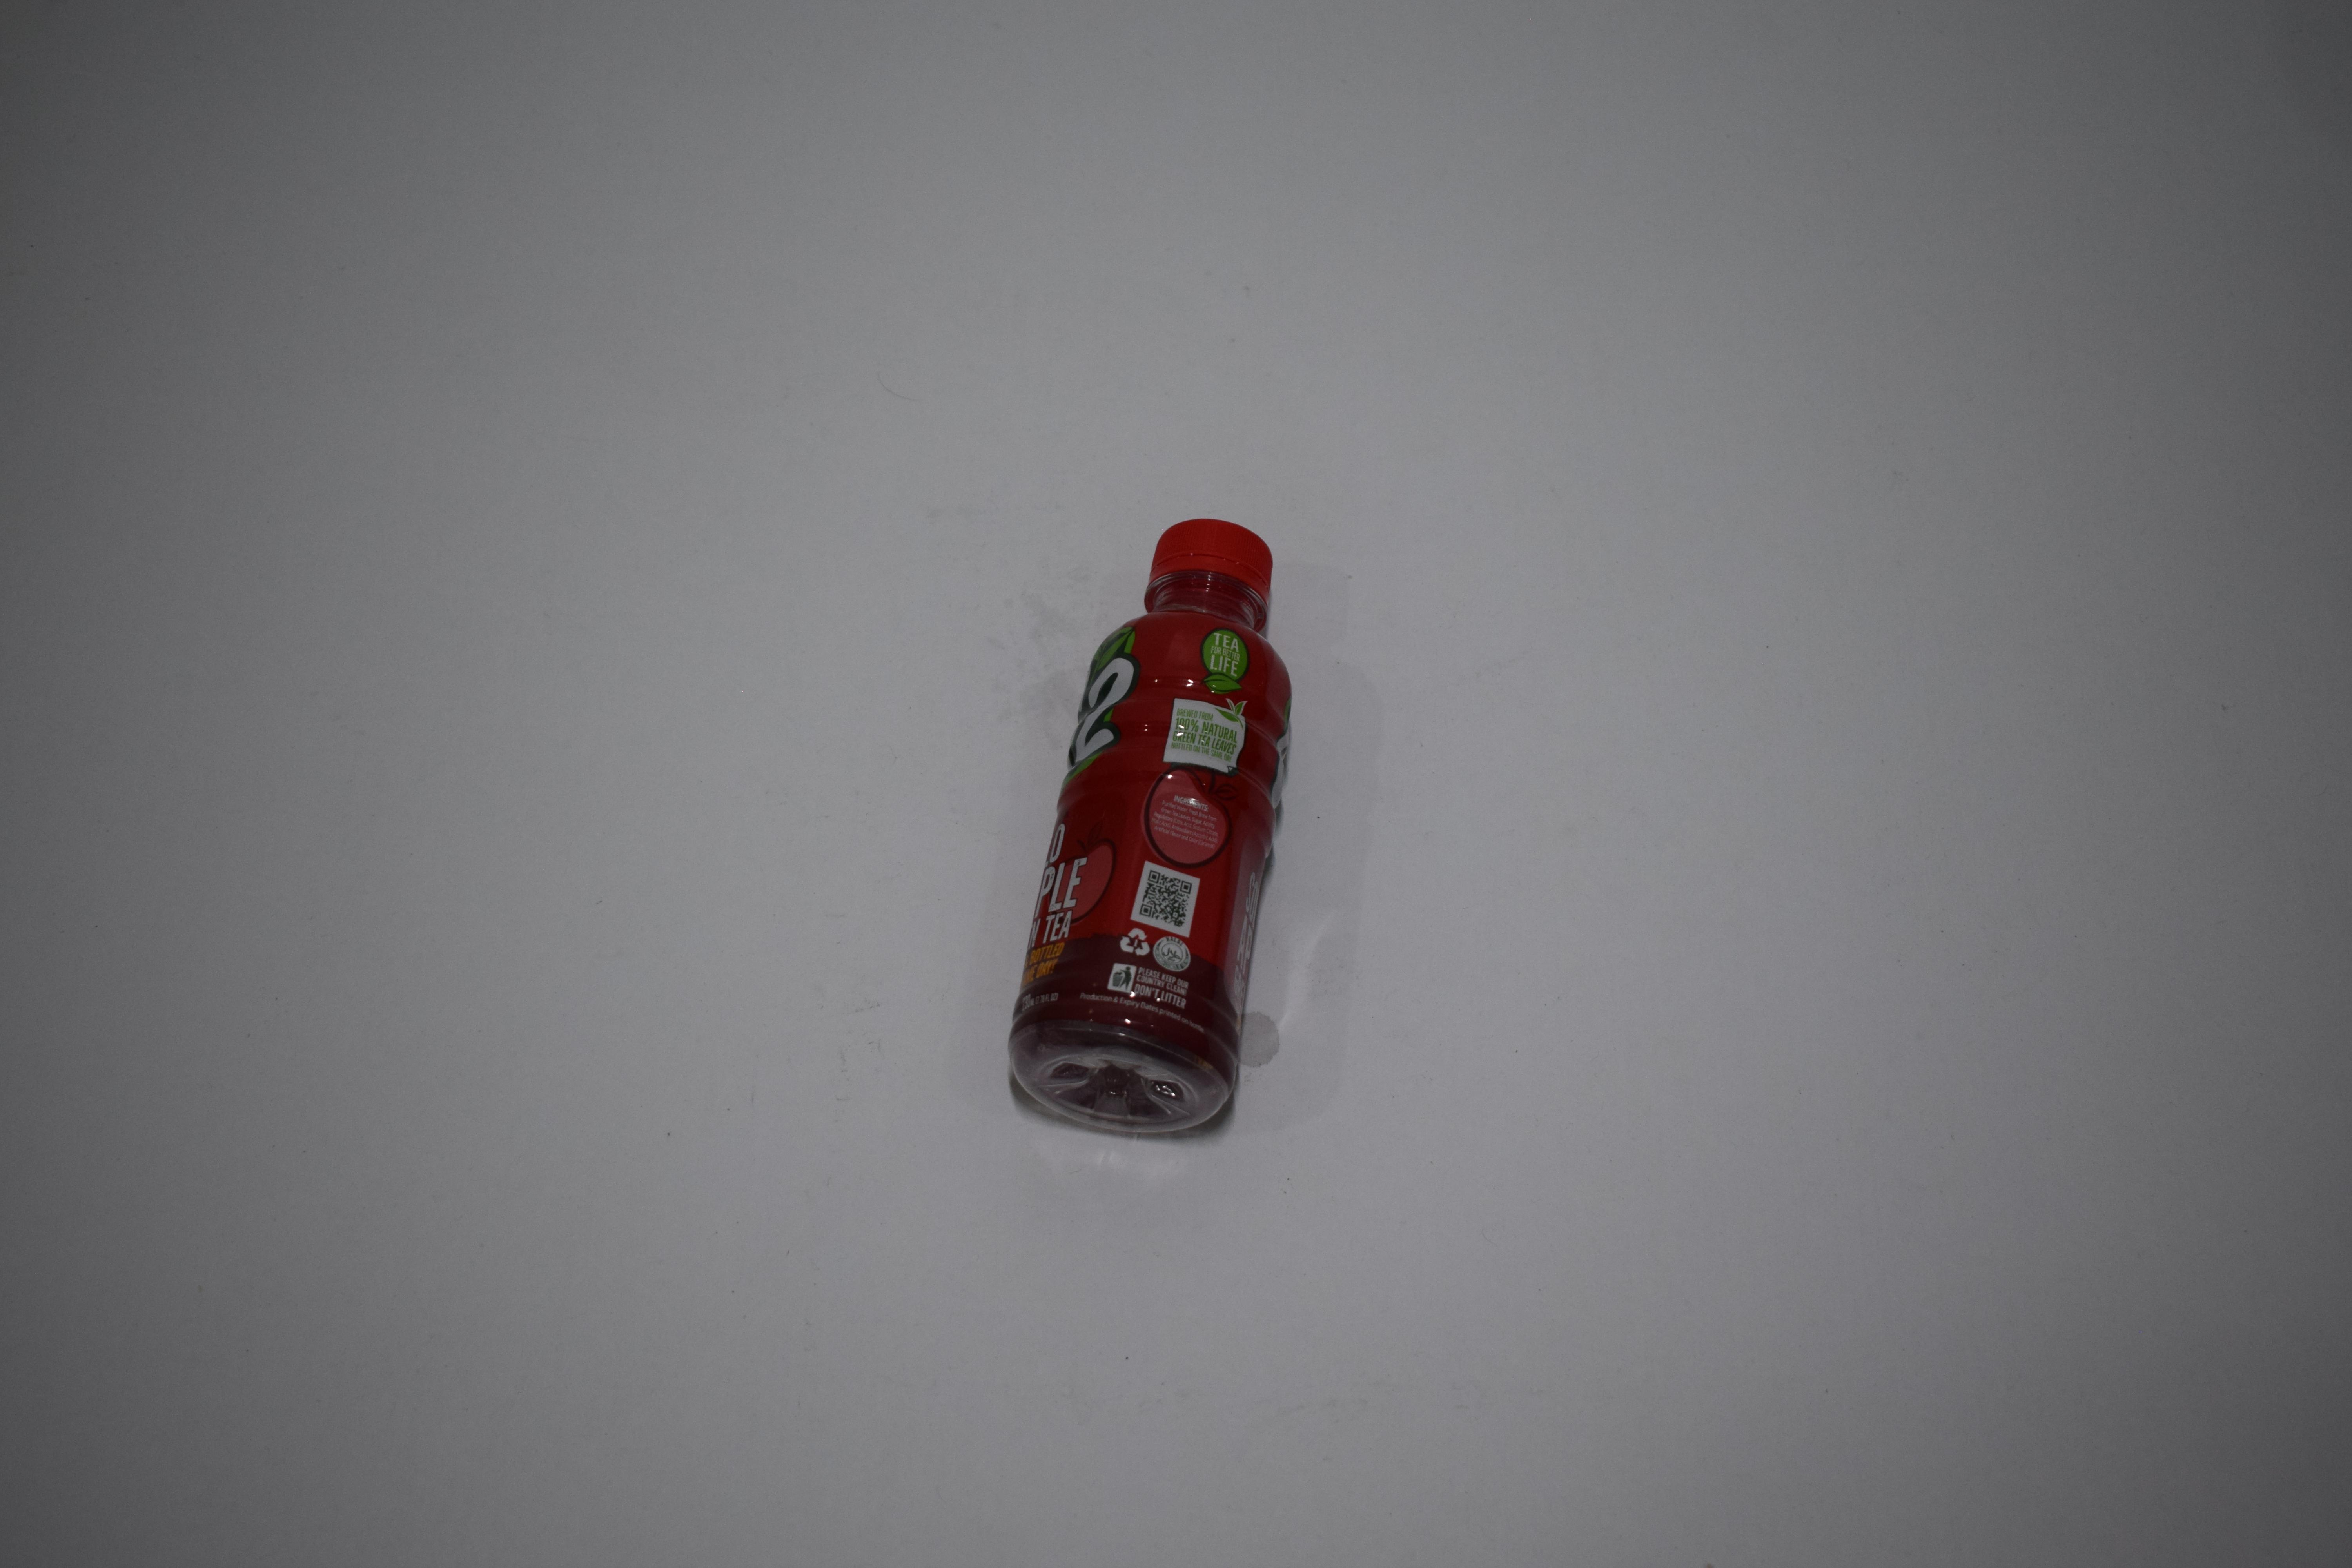bottle: (1003, 0, 1302, 355)
